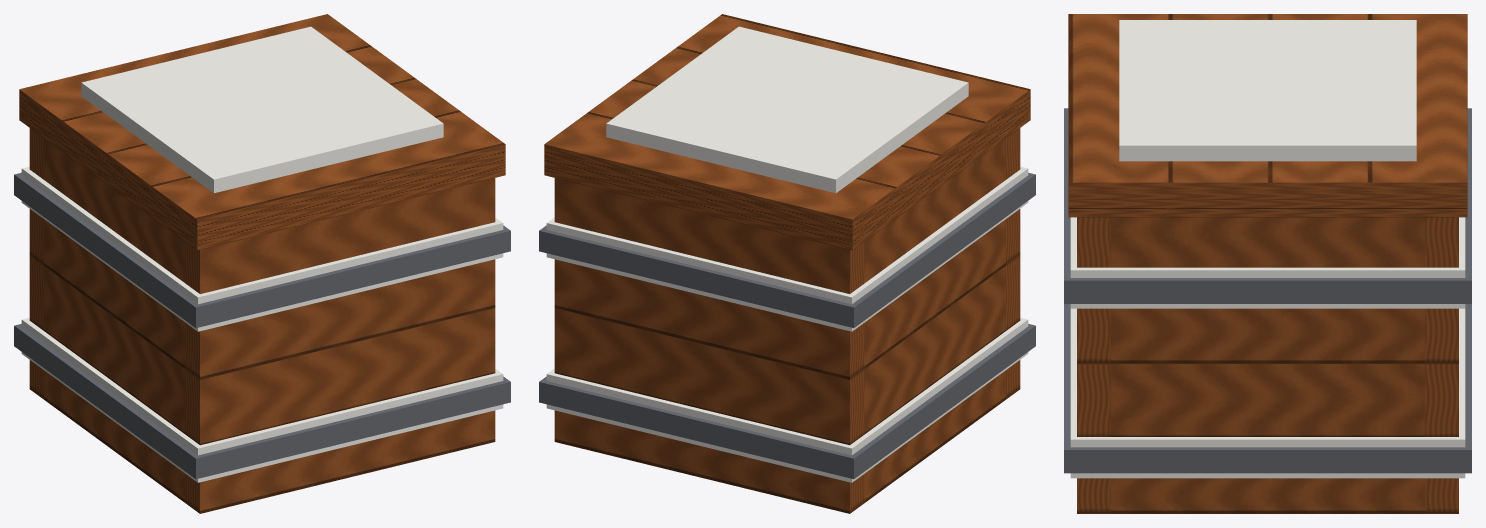
Rendered from travelling-circus-and-big-top-travel-crate-5c6c281b__36264.glb.
3 views of the same model, side by side, from view 1: azimuth 30°, elevation 25°; view 2: azimuth 150°, elevation 25°; view 3: azimuth 270°, elevation 25° (orthographic). The views are drawn at different scales.
Parts seen in each view (by area): view 1: travel-crate-timber, lid/canvas, lid/timber, travel-crate-charcoal, travel-crate-canvas; view 2: travel-crate-timber, lid/canvas, lid/timber, travel-crate-charcoal, travel-crate-canvas; view 3: travel-crate-timber, lid/canvas, lid/timber, travel-crate-charcoal, travel-crate-canvas.
Part boxes in pixels (box(x1,y1,x2,y2)): travel-crate-timber: box(29, 128, 495, 513); lid/canvas: box(81, 26, 443, 193); lid/timber: box(19, 14, 505, 250); travel-crate-charcoal: box(14, 172, 510, 479); travel-crate-canvas: box(21, 166, 503, 482); travel-crate-timber: box(554, 128, 1020, 513); lid/canvas: box(606, 26, 968, 193); lid/timber: box(544, 14, 1030, 250); travel-crate-charcoal: box(539, 172, 1035, 479); travel-crate-canvas: box(546, 166, 1028, 482); travel-crate-timber: box(1077, 217, 1458, 513); lid/canvas: box(1119, 20, 1416, 161); lid/timber: box(1068, 14, 1467, 217); travel-crate-charcoal: box(1064, 108, 1471, 473); travel-crate-canvas: box(1070, 217, 1465, 478).
Size of the model in its own units: 0.96 by 0.91 by 0.96.
Materials: 3 (1 with a texture image).
